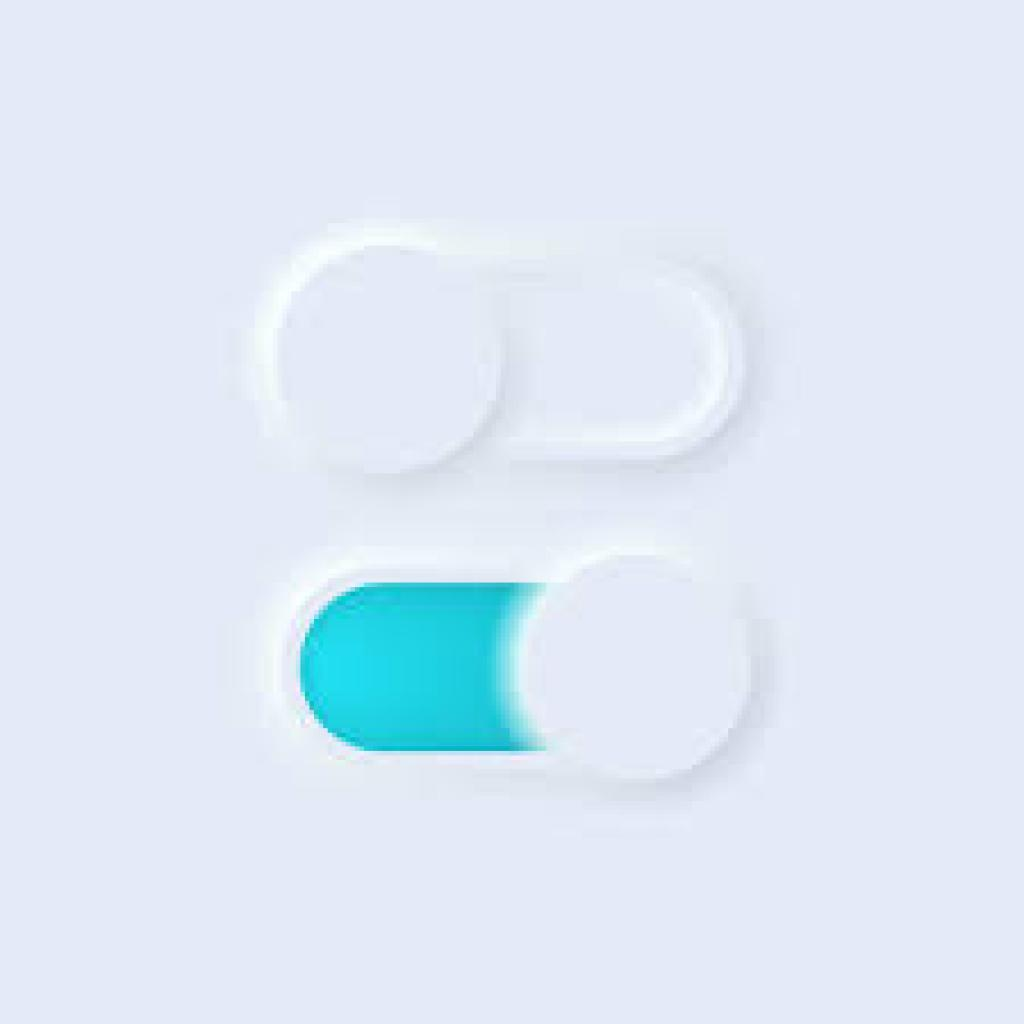switch: (267, 237, 749, 468), (281, 553, 756, 783)
